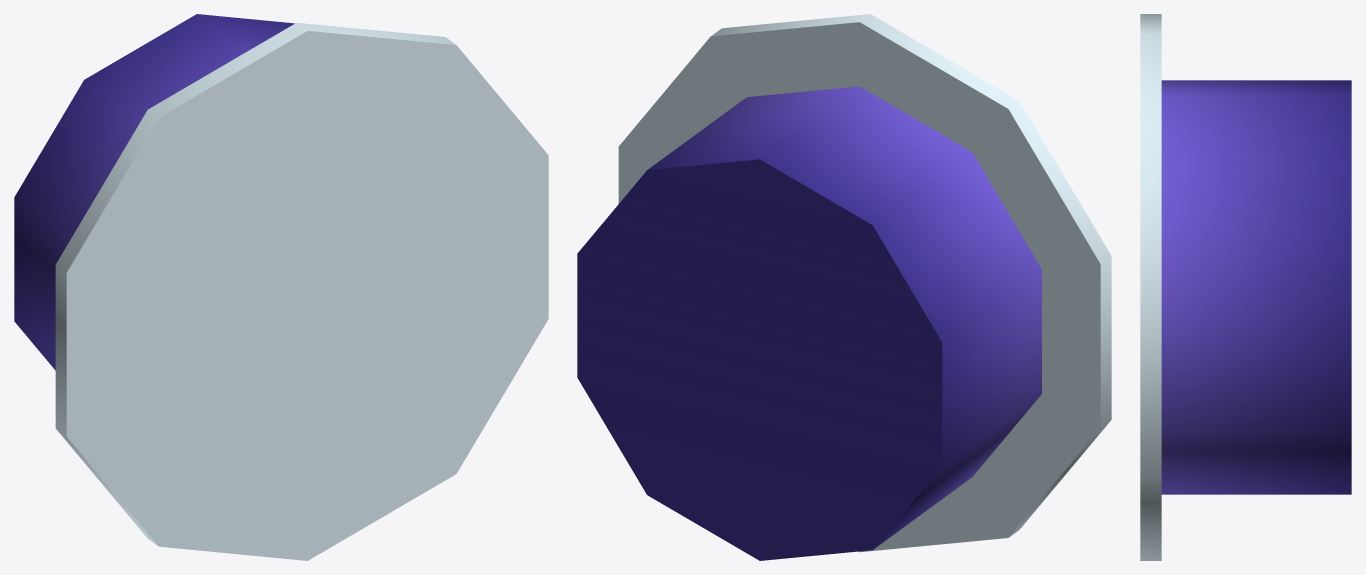
File: Island.fbx
3 renders of one model, left to right at view 1: azimuth 30°, elevation 25°; view 2: azimuth 150°, elevation 25°; view 3: azimuth 270°, elevation 25°, orthographic. The views are drawn at different scales.
Parts seen in each view (by area): view 1: Island; view 2: Island; view 3: Island.
Part boxes in pixels (x1,y1,x2,y2): Island: (14, 14, 548, 560); Island: (577, 14, 1111, 560); Island: (1140, 14, 1351, 560).
Size of the model in its own units: 251 by 264 by 100.
